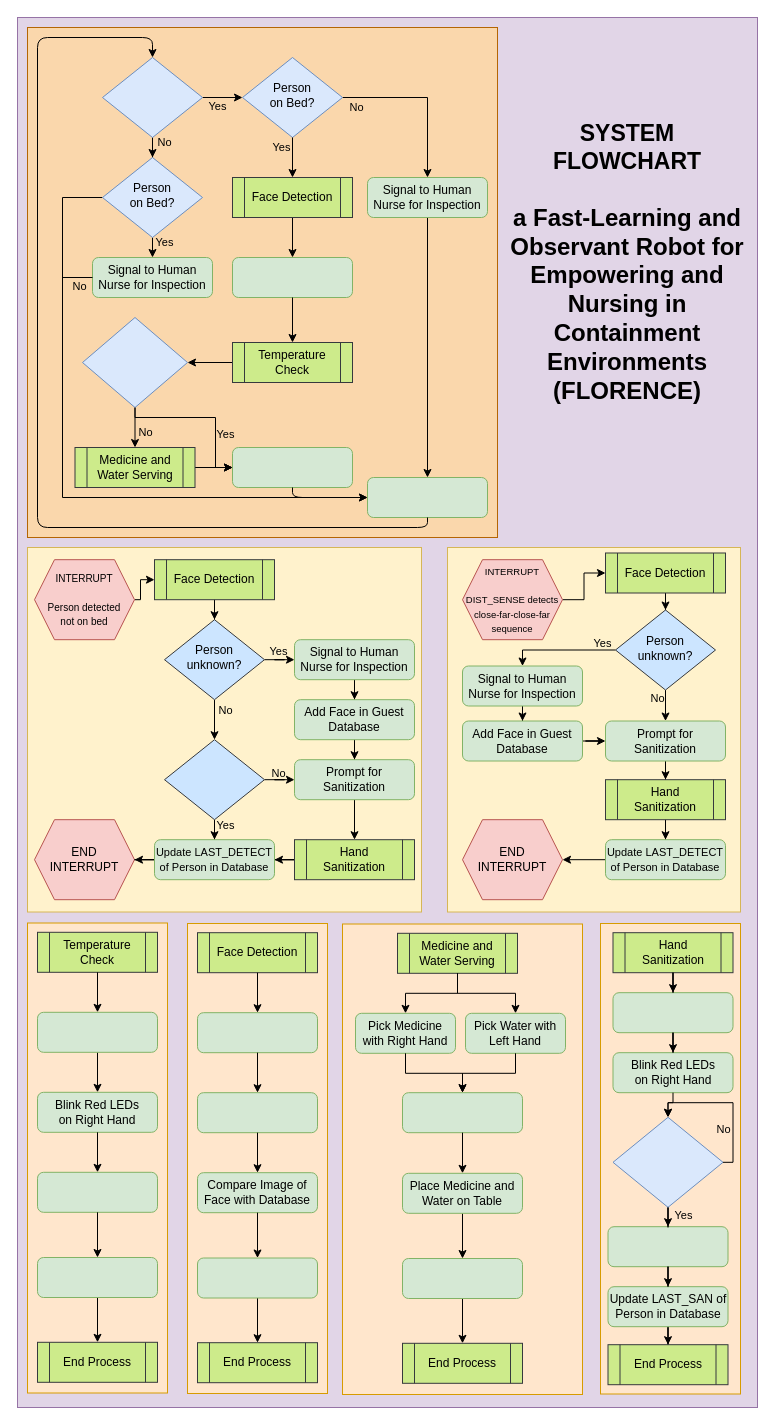
The diagram is 775 pixels wide and 1425 high, and some of its shapes have lost their labels. The box of each missing label's shape, as (x1, y1, x2, y2) in pixels:
Bed has Patient in Database?: (102, 56, 202, 138)
Blink Red LEDs near Camera: (196, 1012, 318, 1053)
Blink Red LEDs on Both Hands: (402, 1092, 522, 1133)
Check for Face in Camera Feed: (196, 1092, 318, 1133)
Click Button on Gun to Check Temperature: (36, 1171, 158, 1212)
DIST_SENSE < DIST_CUT?: (612, 1116, 723, 1207)
LAST_SAN < SAN_LIMIT?: (164, 739, 264, 820)
Medicine for the time consumed?: (82, 316, 188, 408)
Move to Next Bed: (366, 476, 488, 518)
Pick Hand Sanitizer with Right Hand: (612, 992, 733, 1033)
Pick Temperature Gun with Right Hand: (36, 1011, 158, 1052)
Press Aerosol Button to Spray Sanitizer: (607, 1226, 728, 1267)
Send Person Name to Upper Routine: (196, 1257, 318, 1298)
Update Medicine Consumption in Database: (402, 1258, 522, 1298)
Update Patient Number: (232, 256, 352, 298)
Update Patient Report in Database: (232, 446, 352, 488)
Update Patient Temperature in Database: (36, 1256, 158, 1298)
